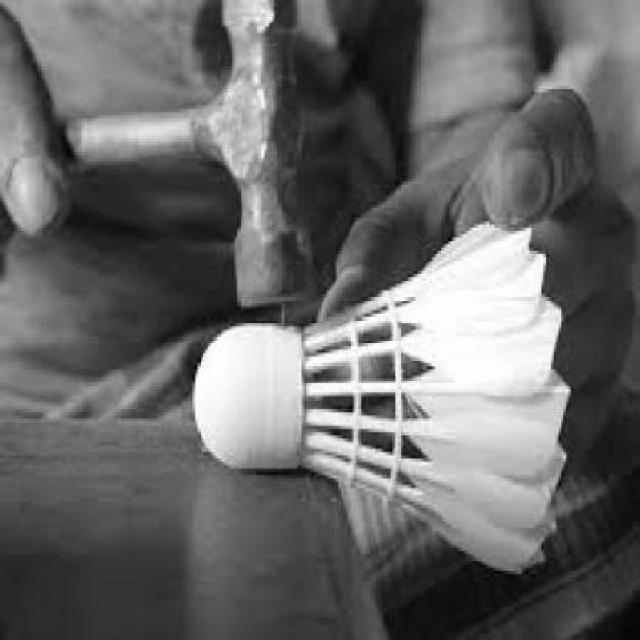Shuttlecock: (189, 223, 569, 586)
